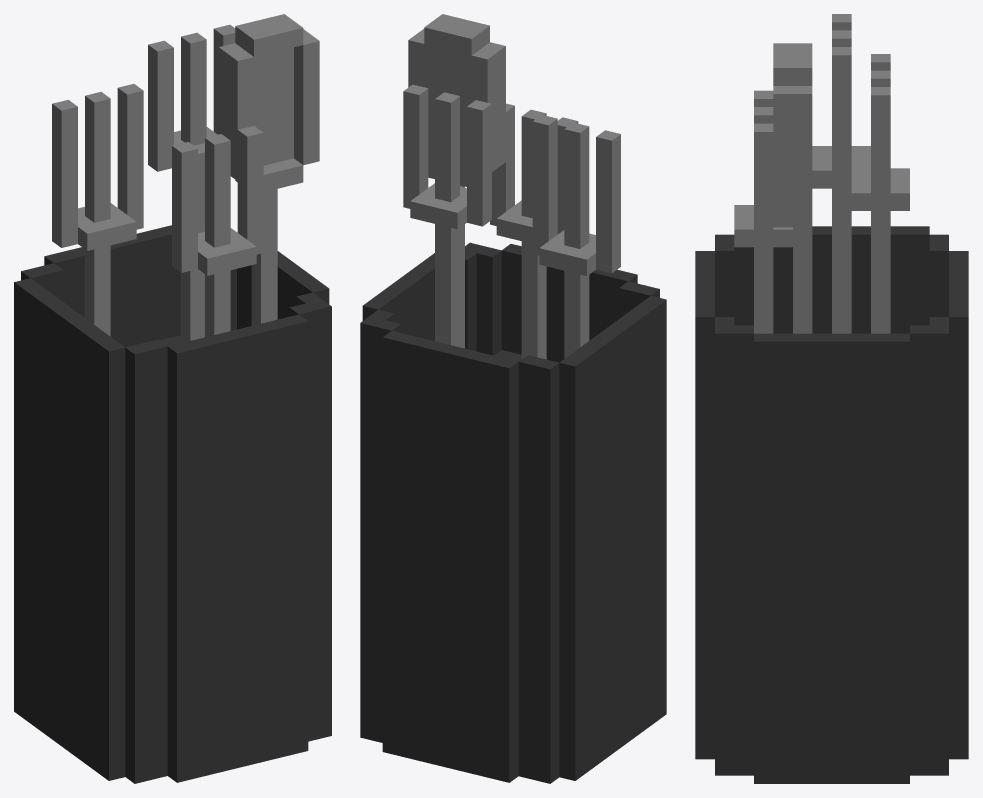
Rendered from Spoons_forks_two.obj.
3 views of the same model, side by side, from view 1: azimuth 30°, elevation 25°; view 2: azimuth 150°, elevation 25°; view 3: azimuth 270°, elevation 25° (orthographic). The views are drawn at different scales.
Bounding box in the file's own units: 1.4 × 4 × 1.4.
Materials: 1 (1 with a texture image).
